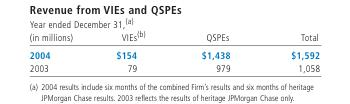table: (28, 29, 318, 73)
table column: (172, 29, 259, 73), (93, 29, 172, 73), (28, 29, 93, 73), (259, 29, 318, 73)
table column header: (28, 29, 318, 45)
table row: (28, 29, 318, 45), (28, 45, 318, 61), (28, 61, 318, 73)
